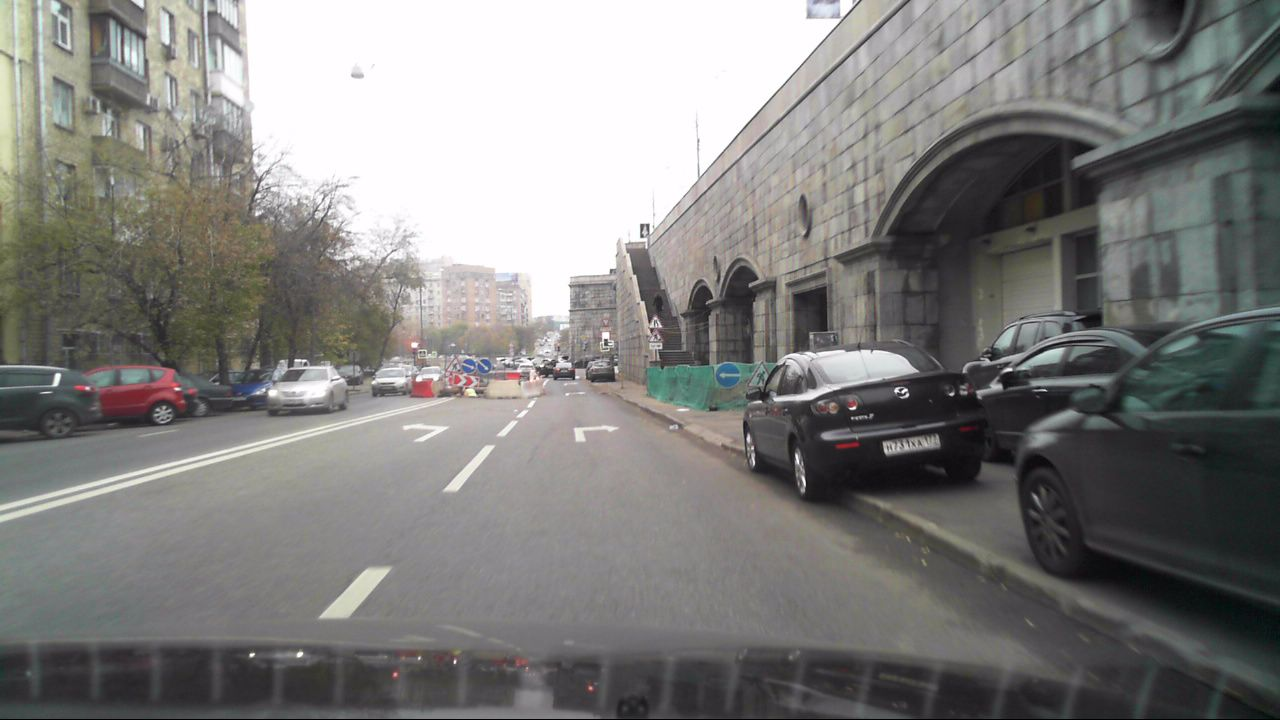Turn Left: (716, 362, 741, 386)
